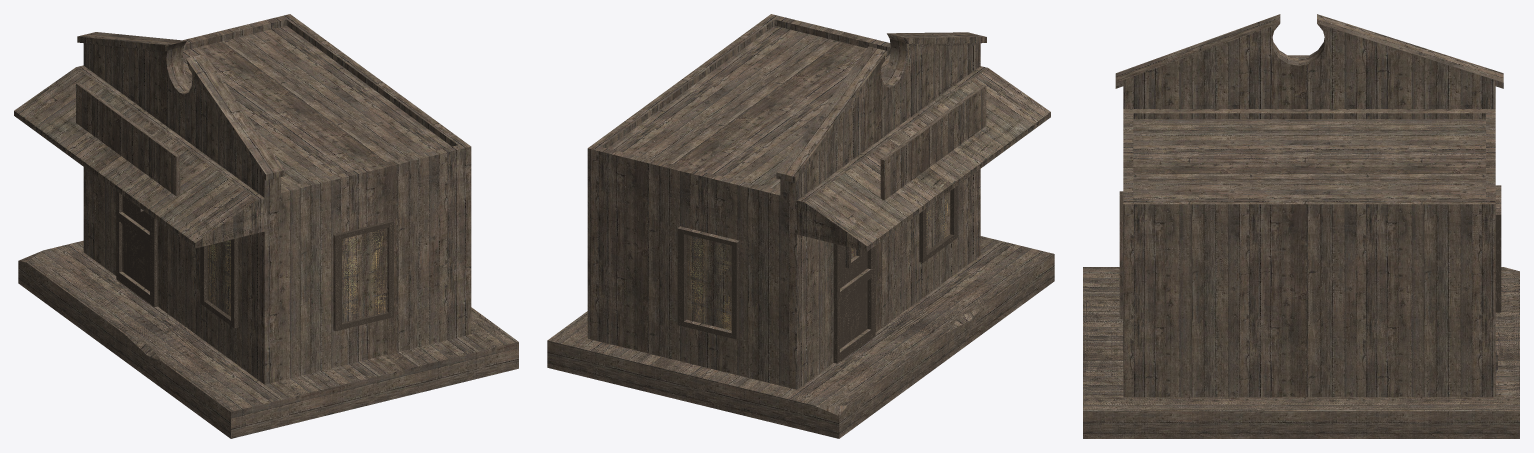
File: House 9 N.fbx
3 views of the same model, side by side, from view 1: azimuth 30°, elevation 25°; view 2: azimuth 150°, elevation 25°; view 3: azimuth 270°, elevation 25° (orthographic). The views are drawn at different scales.
Parts seen in each view (by area): view 1: Model; view 2: Model; view 3: Model.
Part boxes in pixels (x1,y1,x2,y2): Model: (14,14,518,438); Model: (547,14,1054,438); Model: (1083,14,1519,438).
Size of the model in its own units: 55.87 by 52.34 by 67.69.
